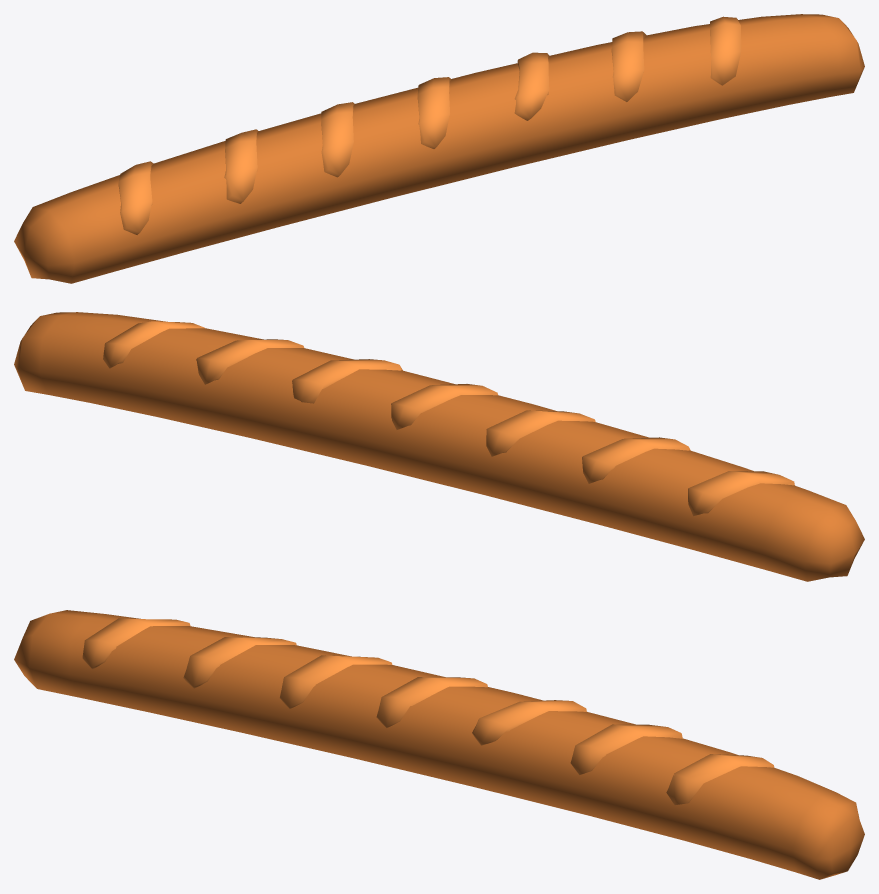
Rendered from Baguette.obj.
3 renders of one model, top to bottom at view 1: azimuth 30°, elevation 25°; view 2: azimuth 150°, elevation 25°; view 3: azimuth 330°, elevation 25°, orthographic.
Parts seen in each view (by area): view 1: Baguette; view 2: Baguette; view 3: Baguette.
Boxes of the visible parts, x1,y1,x2,y2 form: Baguette: (14, 14, 864, 283); Baguette: (14, 312, 864, 581); Baguette: (14, 610, 864, 879).
Size of the model in its own units: 0.6488 by 0.0738 by 0.0706.
